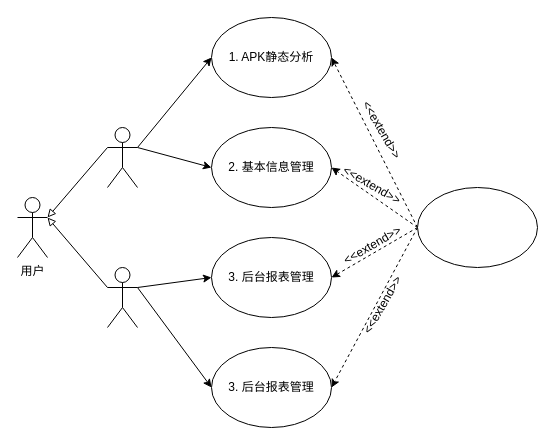
Some shapes in this 555 by 445 pixel diagram are drawn without their labels. The shapes that lost their labels are listed below. From the top down, each one's centre as x and y in pixels, then its label:
point (122, 157): 客户
point (477, 227): 4. 身份认证
point (122, 297): 运维人员
